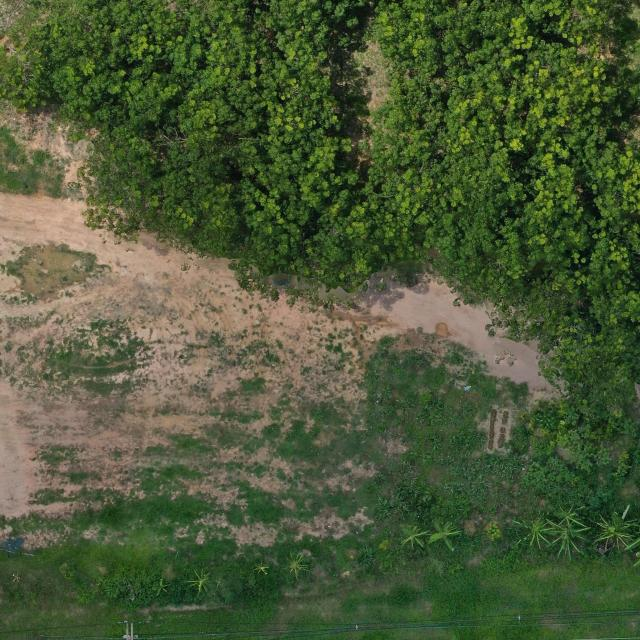Tree: (593, 503, 638, 555), (544, 518, 590, 563), (514, 507, 550, 552), (428, 518, 464, 553), (554, 500, 587, 529), (282, 551, 311, 581), (402, 524, 433, 550), (185, 569, 214, 595), (153, 577, 171, 596), (253, 558, 270, 576)
